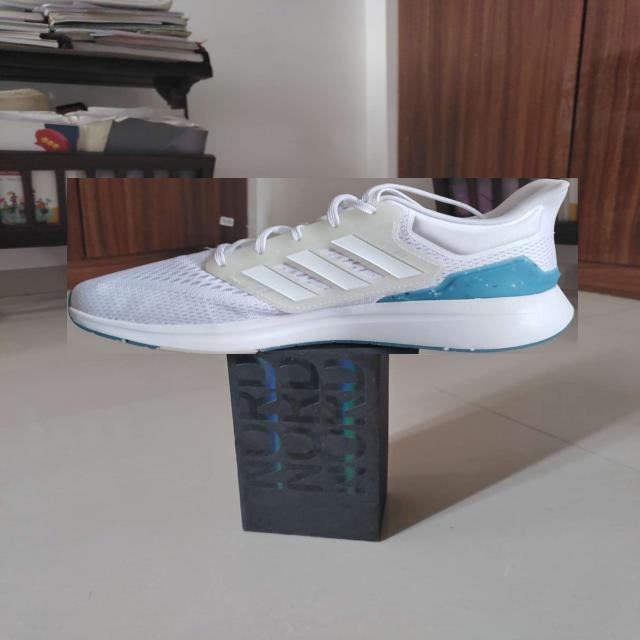shoe: (67, 178, 578, 354)
